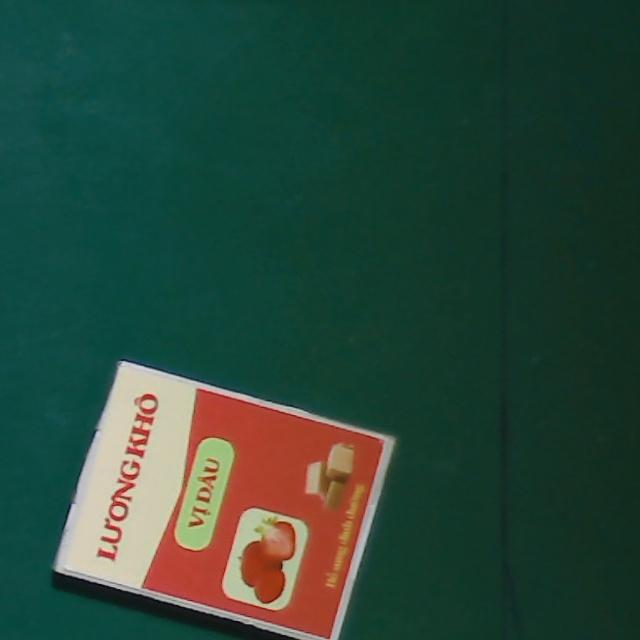dau: (50, 358, 395, 640)
